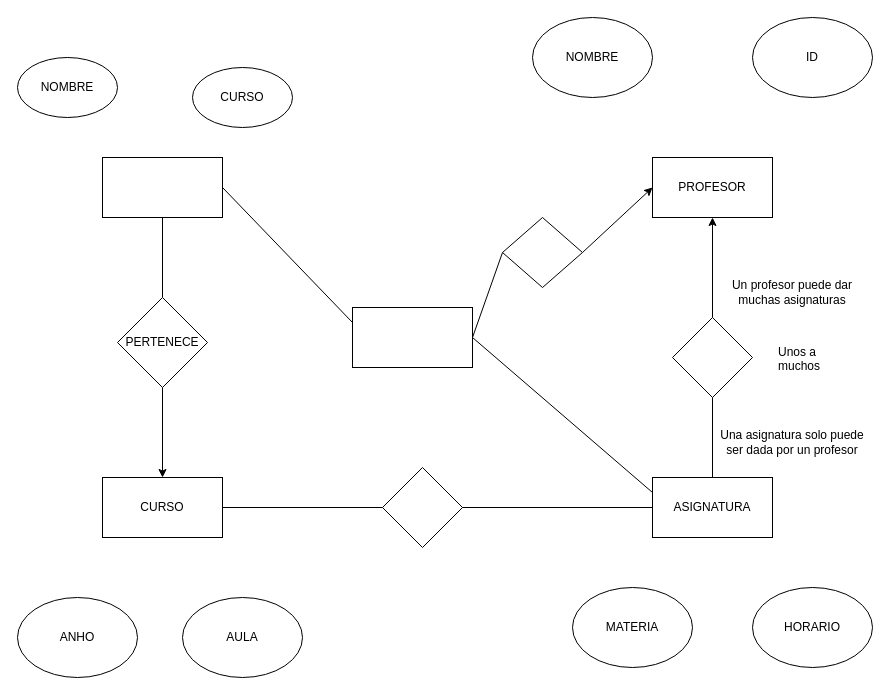
Image size: 890x695. Some labels were removed from this diagram. Here are the shapes that lost their labels. From the top down, the box of each, then its label:
(102, 156, 222, 218): ESTUDIANTE
(502, 216, 582, 288): DICTAN
(352, 306, 472, 368): EVALUACION
(672, 316, 752, 398): DICTA
(382, 466, 462, 548): ASOCIADO
